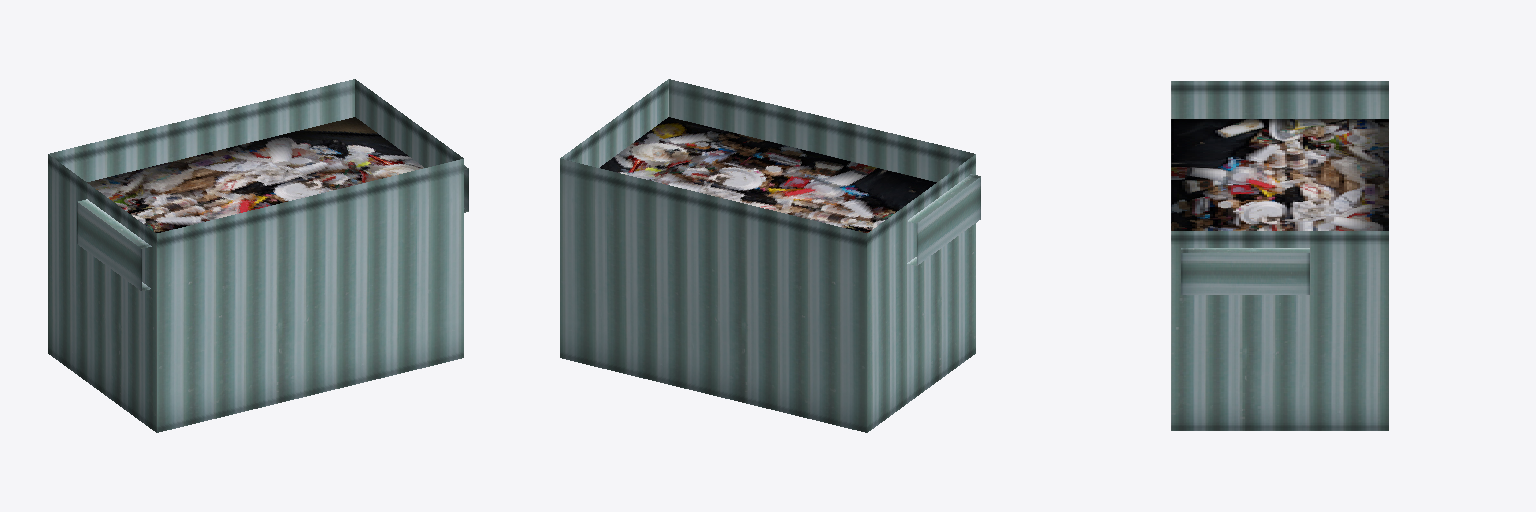
The picture shows the model from 3 angles: view 1: azimuth 30°, elevation 25°; view 2: azimuth 150°, elevation 25°; view 3: azimuth 270°, elevation 25°; orthographic projection.
Parts seen in each view (by area): view 1: dumpster_4_v1; view 2: dumpster_4_v1; view 3: dumpster_4_v1.
Part boxes in pixels (left/top/right/bottom): dumpster_4_v1: left=48, top=79, right=468, bottom=432; dumpster_4_v1: left=560, top=79, right=980, bottom=432; dumpster_4_v1: left=1171, top=81, right=1388, bottom=430.
Size of the model in its own units: 1.52 by 0.8869 by 0.8772.
Materials: 1 (1 with a texture image).